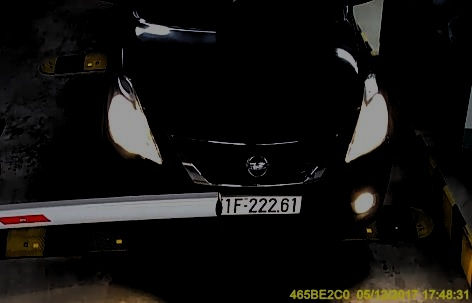plate: (207, 190, 301, 221)
